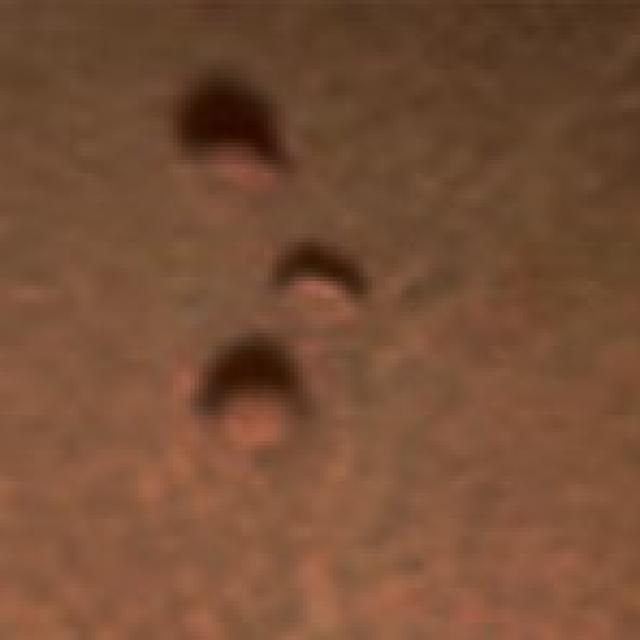wart: (164, 337, 342, 489), (160, 65, 298, 225), (260, 225, 372, 337)
